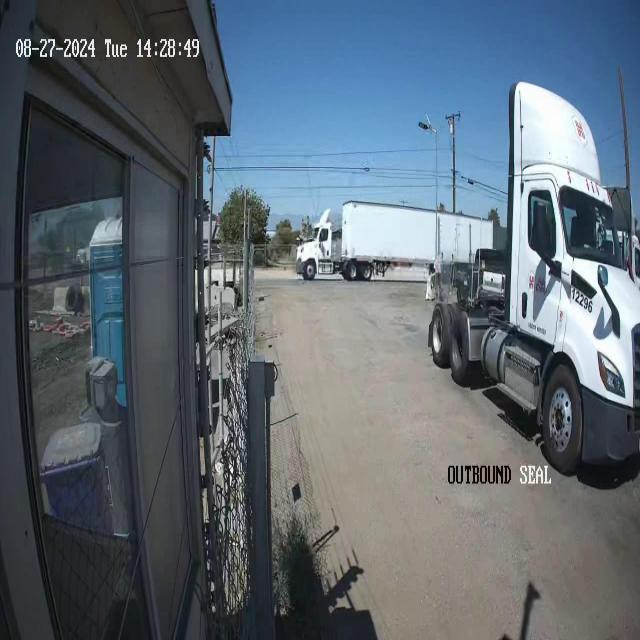TRUCK_IN: (428, 72, 639, 476)
